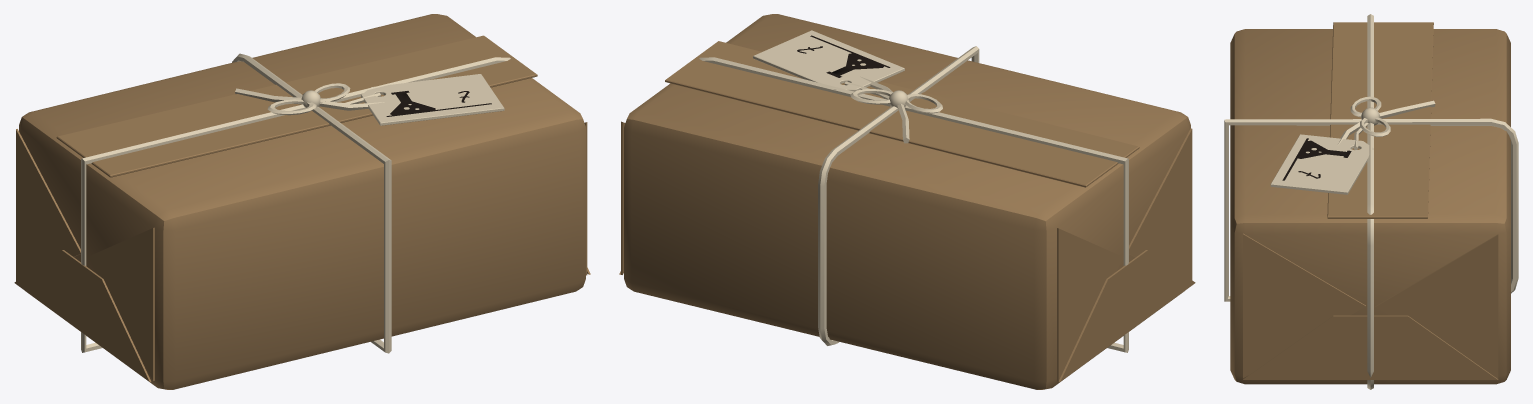
The model's file is leyla_parcel.glb.
The picture shows the model from 3 angles, left to right: view 1: azimuth 30°, elevation 25°; view 2: azimuth 150°, elevation 25°; view 3: azimuth 270°, elevation 25°; orthographic projection. The views are drawn at different scales.
Parts seen in each view (by area): view 1: leyla_parcel, twine, ink; view 2: leyla_parcel, twine, ink; view 3: leyla_parcel, twine, ink.
Boxes of the visible parts, x1,y1,x2,y2 form: leyla_parcel: (14, 14, 590, 389); twine: (81, 53, 510, 353); ink: (386, 91, 491, 116); leyla_parcel: (619, 14, 1195, 389); twine: (699, 30, 1128, 352); ink: (797, 35, 890, 77); leyla_parcel: (1230, 22, 1510, 384); twine: (1224, 14, 1518, 389); ink: (1282, 138, 1351, 180).
Bounding box in the file's own units: 0.2057 × 0.0915 × 0.1259.
